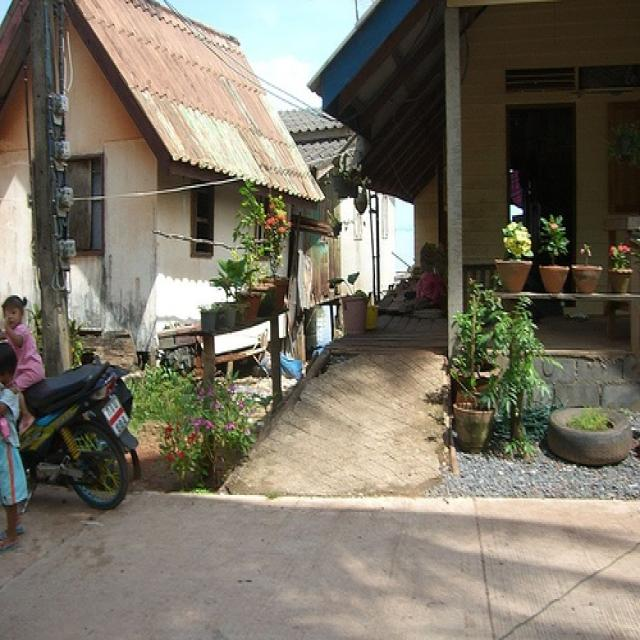motorbike: (19, 363, 142, 515)
person: (1, 296, 48, 431), (3, 341, 28, 539)
pottedplant: (453, 284, 498, 455), (495, 221, 535, 290), (540, 218, 572, 291), (572, 242, 605, 296), (609, 242, 635, 295)
